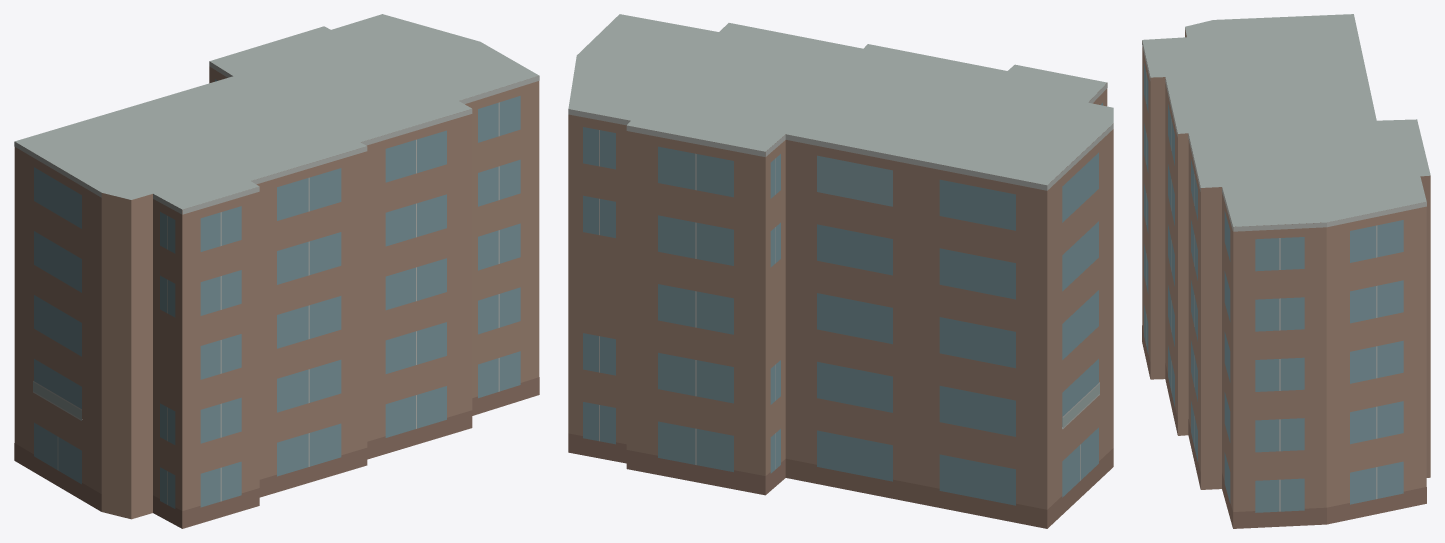
Rendered from survey-upis-32458525.glb.
The picture shows the model from 3 angles, left to right: view 1: azimuth 30°, elevation 25°; view 2: azimuth 150°, elevation 25°; view 3: azimuth 270°, elevation 25°; orthographic projection. The views are drawn at different scales.
Parts seen in each view (by area): view 1: survey-upis-32458525.tmp; view 2: survey-upis-32458525.tmp; view 3: survey-upis-32458525.tmp.
Boxes of the visible parts, x1,y1,x2,y2 form: survey-upis-32458525.tmp: (14,14,539,528); survey-upis-32458525.tmp: (568,14,1113,528); survey-upis-32458525.tmp: (1142,14,1430,528).
Bounding box in the file's own units: 23.06 × 15.25 × 13.22.
